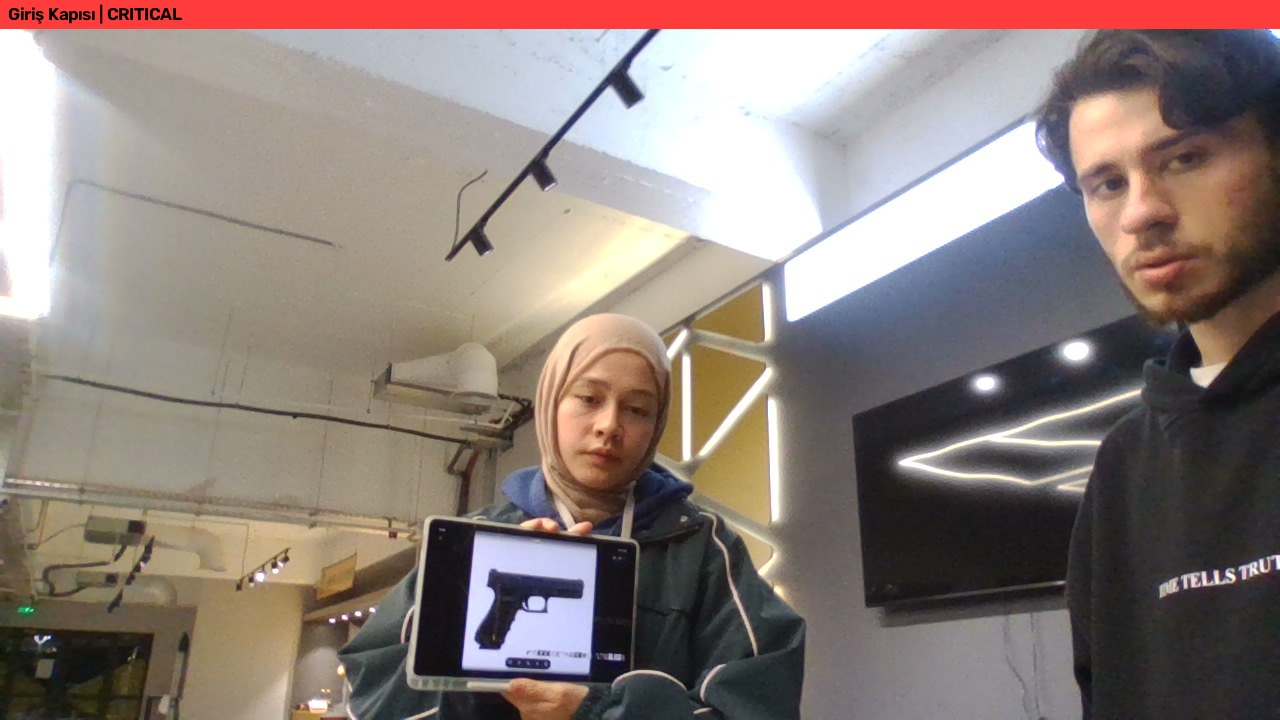weapon: (430, 562, 521, 644)
